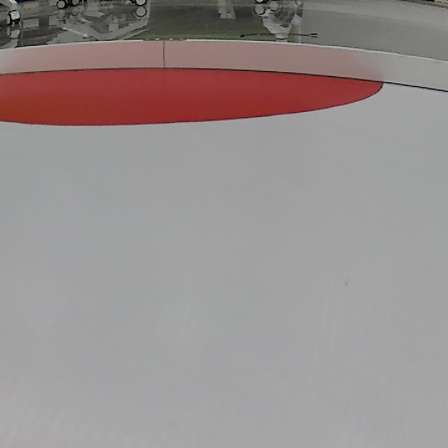red_base: (1, 56, 390, 130)
